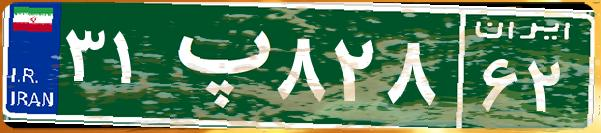1: (110, 28, 158, 105)
2: (330, 28, 385, 110), (525, 38, 570, 115)
3: (57, 26, 110, 107)
6: (475, 38, 525, 113)
8: (385, 28, 445, 110), (273, 28, 330, 110)
پ: (158, 15, 273, 115)
